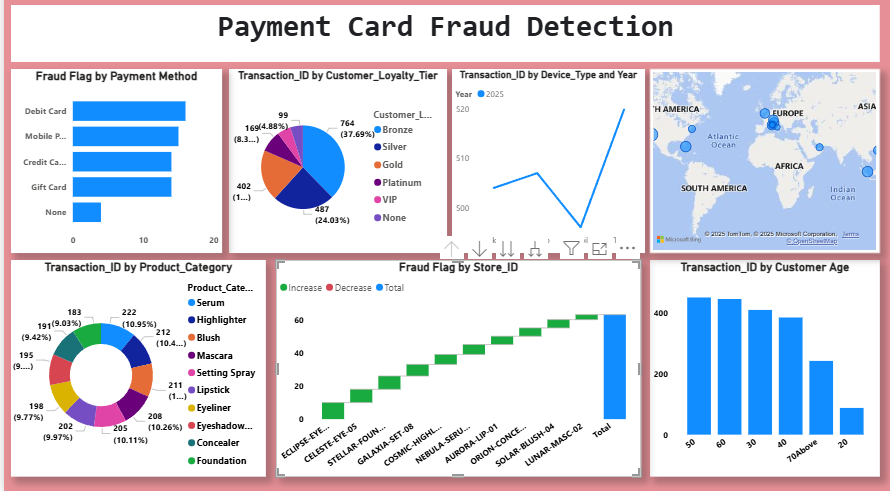

The page's visual inventory and layout, read from the dashboard file:
{"tool":"powerbi","page":{"name":"Page 1","canvas":[1280,720],"ordinal":0},"visuals":[{"type":"textbox","box":[10.1,18.5,1251.4,82.3],"z":0},{"type":"clusteredColumnChart","title":"Transaction_ID by Customer Age","fields":{"Category":["luxury_cosmetics_fraud_analysis_2025.Customer Age"],"Y":["CountNonNull(luxury_cosmetics_fraud_analysis_2025.Transaction_ID)"]},"box":[930.2,385.9,331.2,312.5],"z":1000},{"type":"pieChart","title":"Transaction_ID by Customer_Loyalty_Tier","fields":{"Category":["luxury_cosmetics_fraud_analysis_2025.Customer_Loyalty_Tier"],"Y":["CountNonNull(luxury_cosmetics_fraud_analysis_2025.Transaction_ID)"]},"box":[324,110.9,313.9,265],"z":2000},{"type":"lineChart","title":"Transaction_ID by Device_Type and Year","fields":{"Category":["luxury_cosmetics_fraud_analysis_2025.Device_Type"],"Y":["CountNonNull(luxury_cosmetics_fraud_analysis_2025.Transaction_ID)"],"Series":["luxury_cosmetics_fraud_analysis_2025.Transaction_Date.Variation.Date Hierarchy.Year"]},"box":[645.1,110.9,277.9,265],"z":3000},{"type":"map","fields":{"Category":["luxury_cosmetics_fraud_analysis_2025.Location"],"Size":["Sum(luxury_cosmetics_fraud_analysis_2025.Fraud_Flag)"]},"box":[930.2,110.9,331.2,265],"z":4000},{"type":"clusteredBarChart","title":"Fraud Flag by Payment Method","fields":{"Category":["luxury_cosmetics_fraud_analysis_2025.Payment_Method"],"Y":["Sum(luxury_cosmetics_fraud_analysis_2025.Fraud_Flag)"]},"box":[10.1,110.9,303.8,265],"z":5000},{"type":"donutChart","title":"Transaction_ID by Product_Category","fields":{"Category":["luxury_cosmetics_fraud_analysis_2025.Product_Category"],"Y":["CountNonNull(luxury_cosmetics_fraud_analysis_2025.Transaction_ID)"]},"box":[10.1,385.9,367.2,312.5],"z":6000},{"type":"waterfallChart","title":"Fraud Flag by Store_ID","fields":{"Category":["luxury_cosmetics_fraud_analysis_2025.Product_SKU","luxury_cosmetics_fraud_analysis_2025.Store_ID"],"Y":["Sum(luxury_cosmetics_fraud_analysis_2025.Fraud_Flag)"]},"box":[391.7,385.9,525.6,312.5],"z":7000}]}

Visuals, with their boxes in screenshot pixels (x1, y1, x2, y2), scaled from the page's 1280x720 canvas onto the 890x491 screenshot:
textbox: {"left": 7, "top": 13, "right": 877, "bottom": 69}
"Transaction_ID by Customer Age" clusteredColumnChart: {"left": 647, "top": 263, "right": 877, "bottom": 476}
"Transaction_ID by Customer_Loyalty_Tier" pieChart: {"left": 225, "top": 76, "right": 444, "bottom": 256}
"Transaction_ID by Device_Type and Year" lineChart: {"left": 449, "top": 76, "right": 642, "bottom": 256}
map - luxury_cosmetics_fraud_analysis_2025.Location x Sum(luxury_cosmetics_fraud_analysis_2025.Fraud_Flag): {"left": 647, "top": 76, "right": 877, "bottom": 256}
"Fraud Flag by Payment Method" clusteredBarChart: {"left": 7, "top": 76, "right": 218, "bottom": 256}
"Transaction_ID by Product_Category" donutChart: {"left": 7, "top": 263, "right": 262, "bottom": 476}
"Fraud Flag by Store_ID" waterfallChart: {"left": 272, "top": 263, "right": 638, "bottom": 476}
